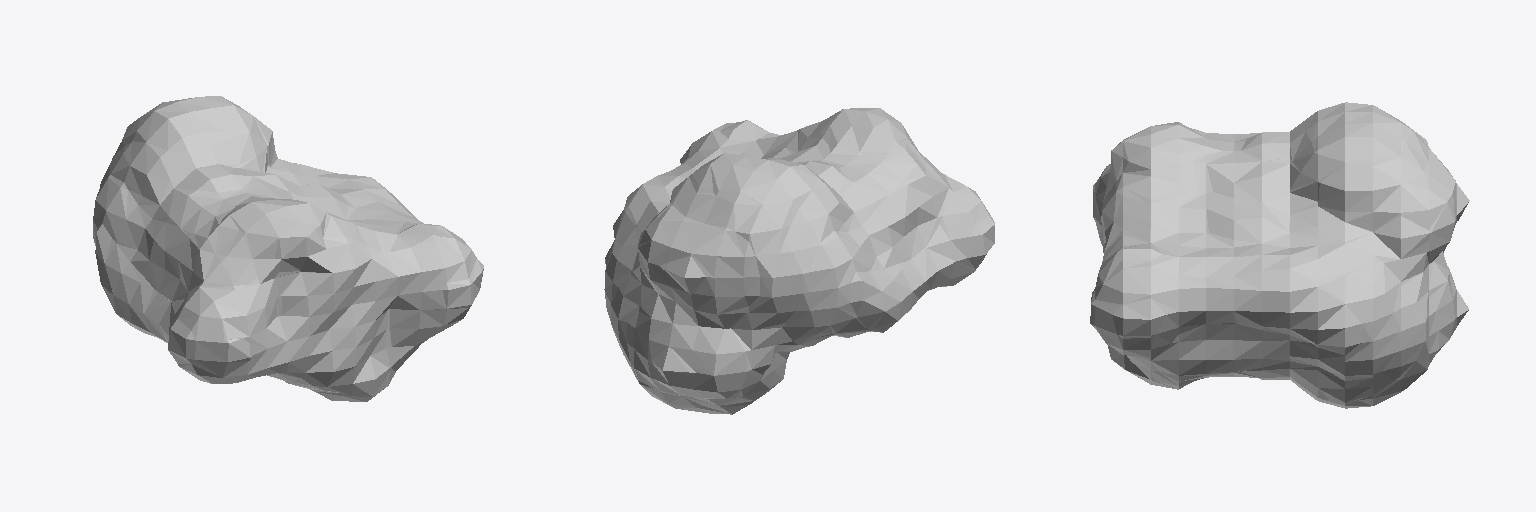
File: 1l7v_mb_cms.obj
The picture shows the model from 3 angles: view 1: azimuth 30°, elevation 25°; view 2: azimuth 150°, elevation 25°; view 3: azimuth 270°, elevation 25°; orthographic projection.
Size of the model in its own units: 95.99 by 76.79 by 103.